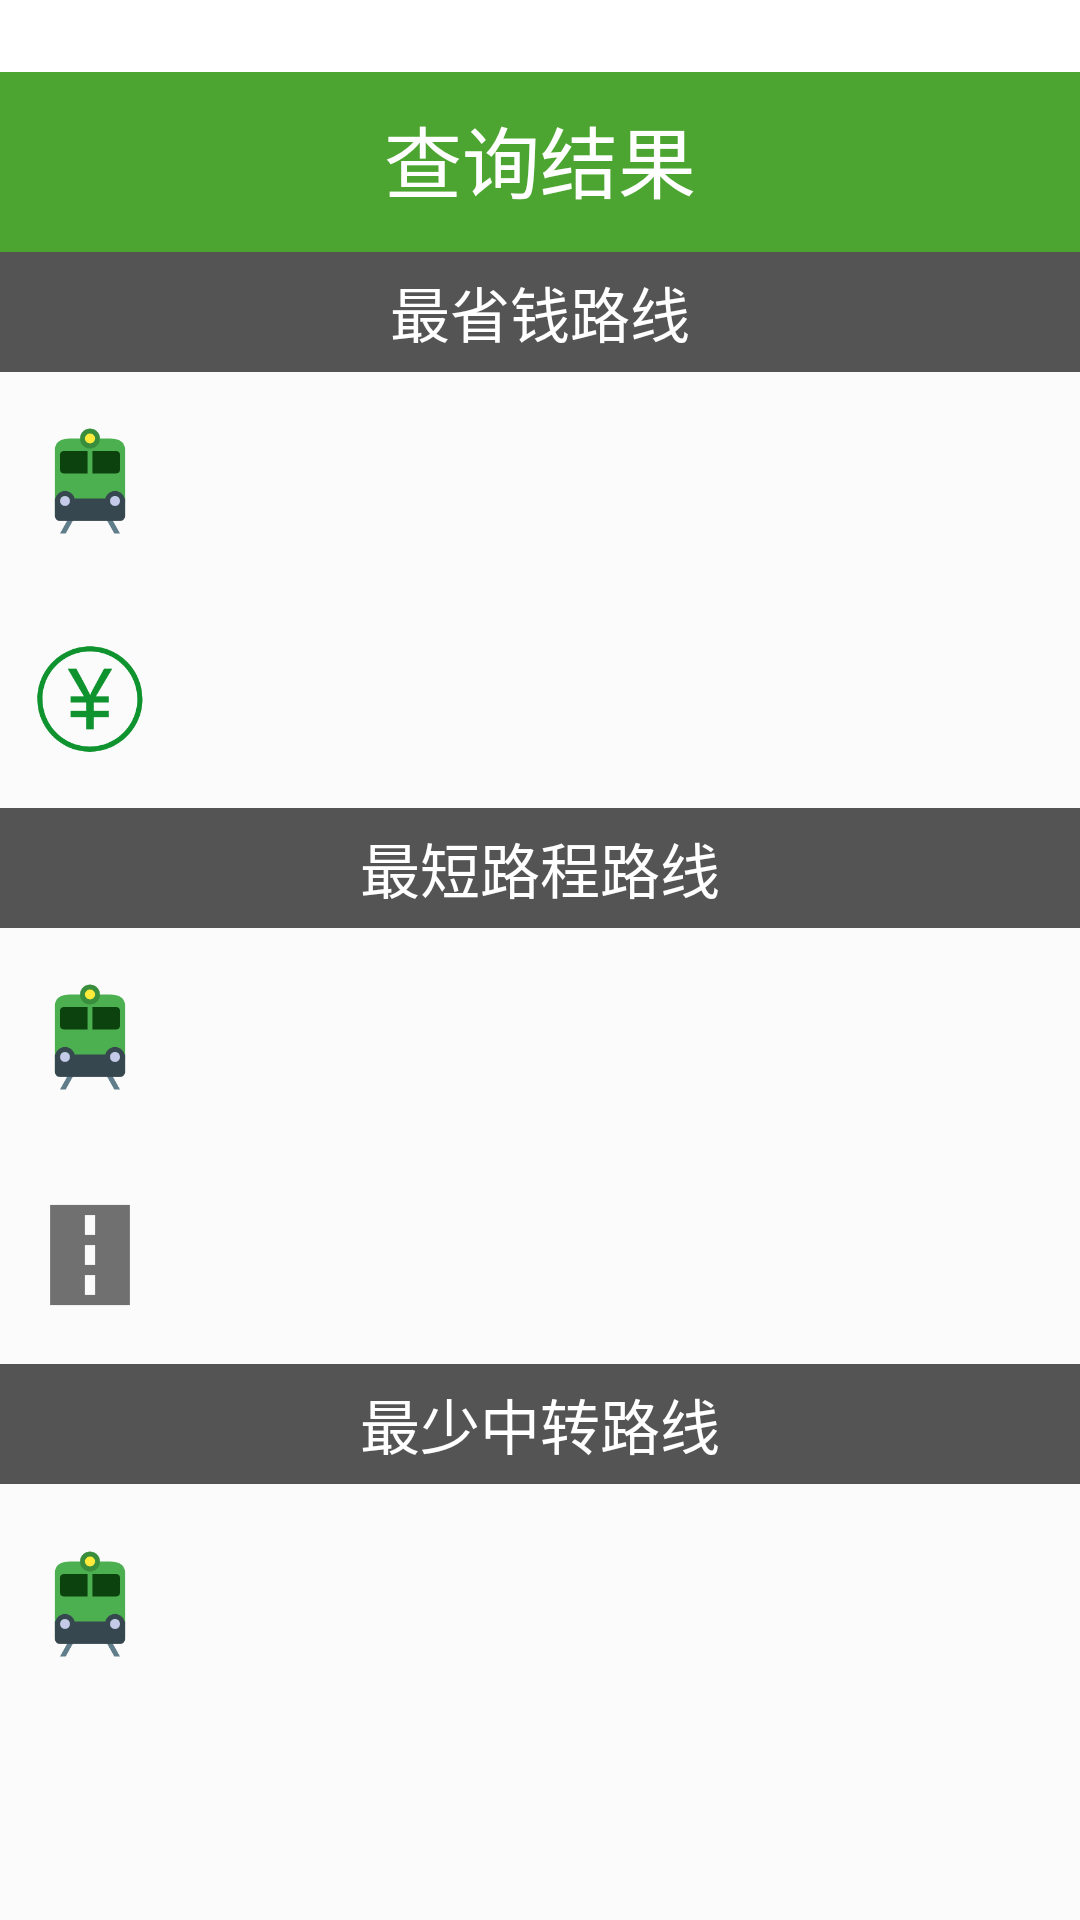

Icon click points for this 1080×1920 phone screenshot, format (x,y):
money: (90,699)
road: (90,1255)
train: (90,481), (90,1037), (90,1604)
